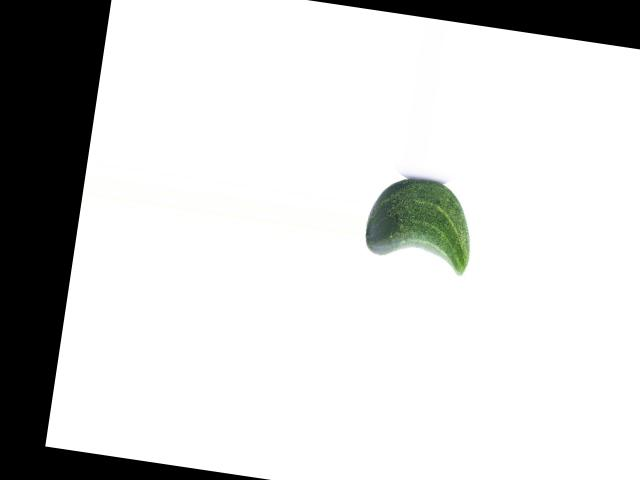cucumber: (361, 172, 480, 276)
